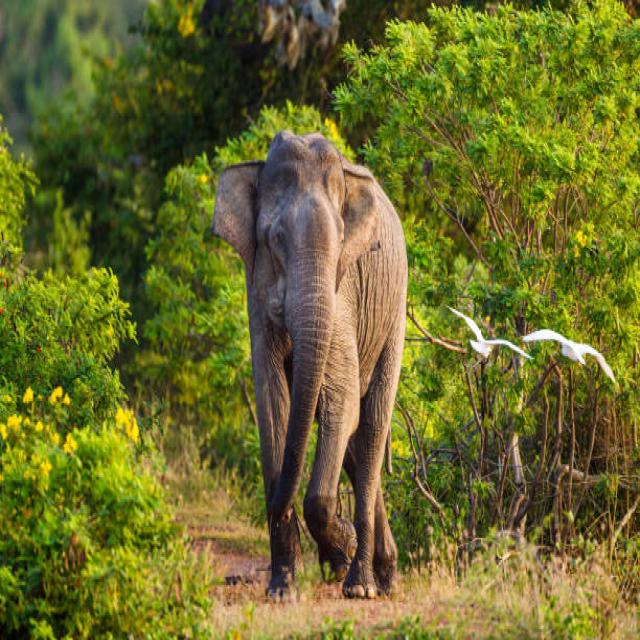Elephant: (208, 121, 418, 598)
